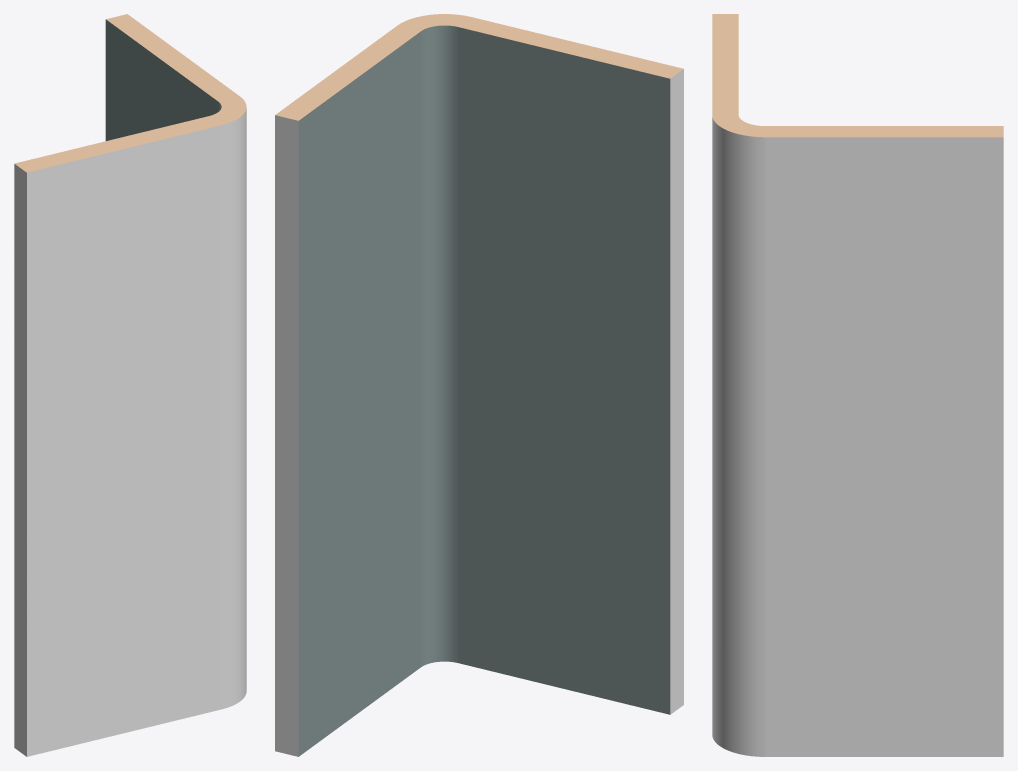
File: wallCornerRond.glb
3 renders of one model, left to right at view 1: azimuth 30°, elevation 25°; view 2: azimuth 150°, elevation 25°; view 3: azimuth 270°, elevation 25°, orthographic. The views are drawn at different scales.
Parts seen in each view (by area): view 1: wallCornerRond; view 2: wallCornerRond; view 3: wallCornerRond.
Part boxes in pixels (bbox=[...]): wallCornerRond: bbox=[14, 14, 246, 756]; wallCornerRond: bbox=[275, 14, 683, 756]; wallCornerRond: bbox=[712, 14, 1003, 756].
Bounding box in the file's own units: 0.4769 × 1.12 × 0.4769.
